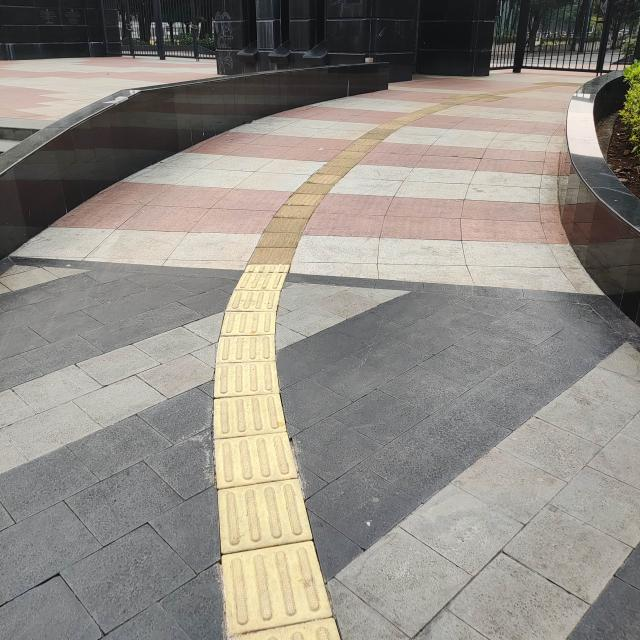lurus: (195, 280, 318, 640)
